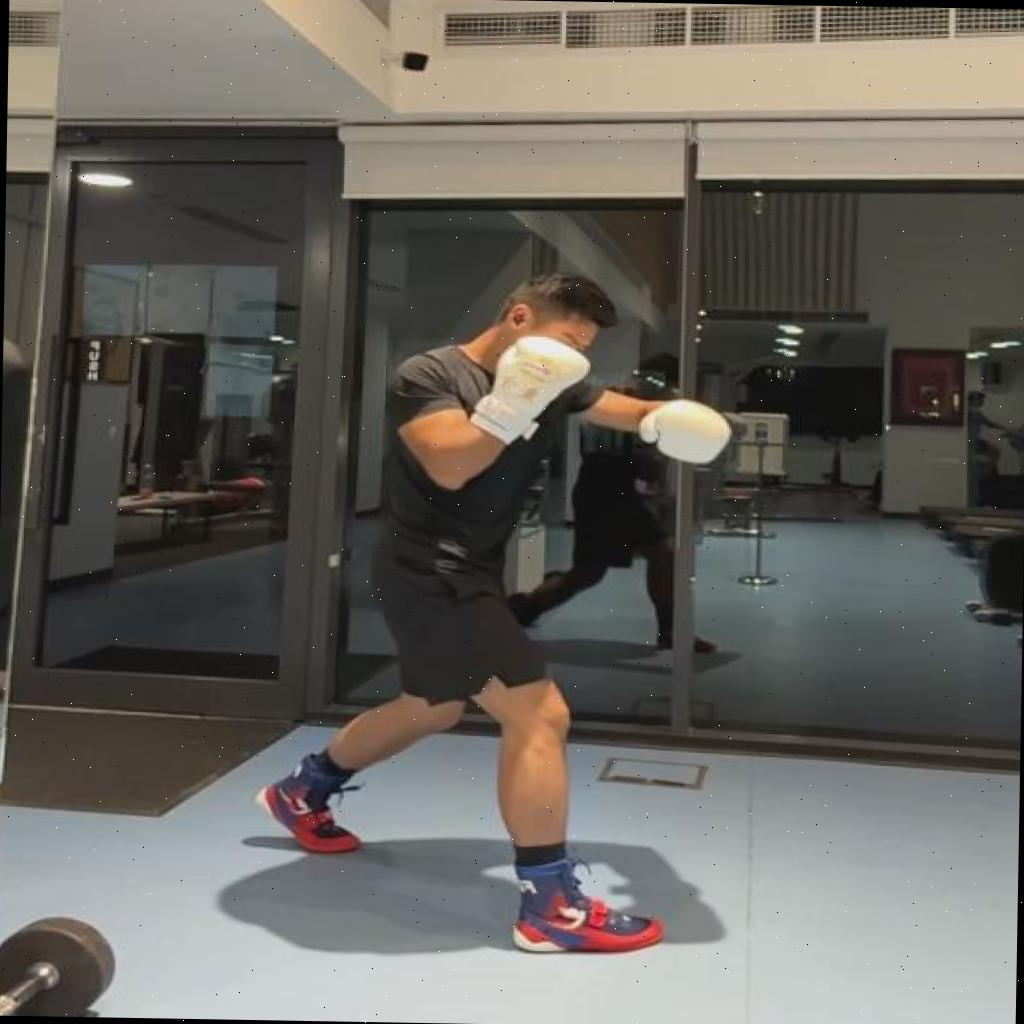hook: (257, 261, 738, 961)
